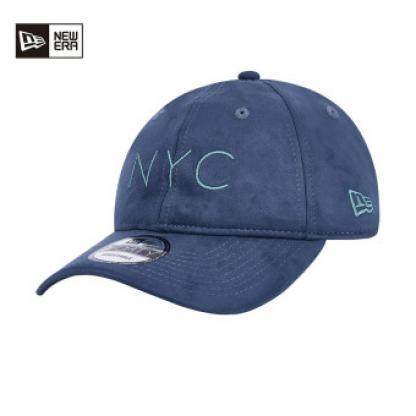cap: (18, 63, 387, 318)
